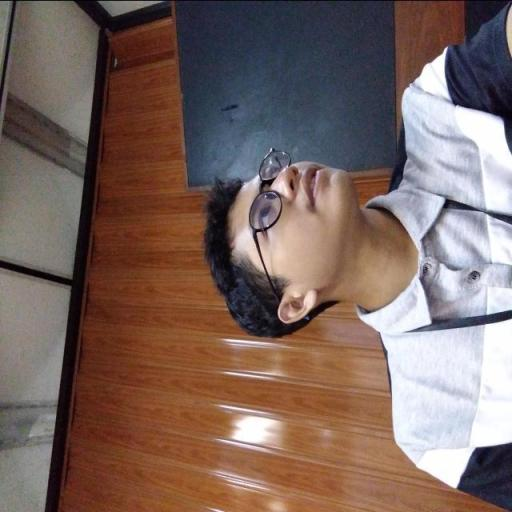glasses: (232, 142, 302, 328)
